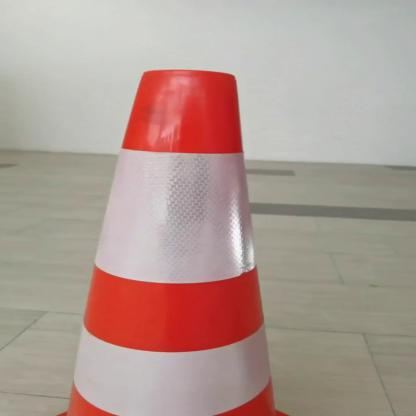cone: (41, 66, 315, 416)
